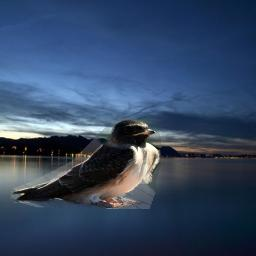Swallow: (9, 119, 161, 209)
